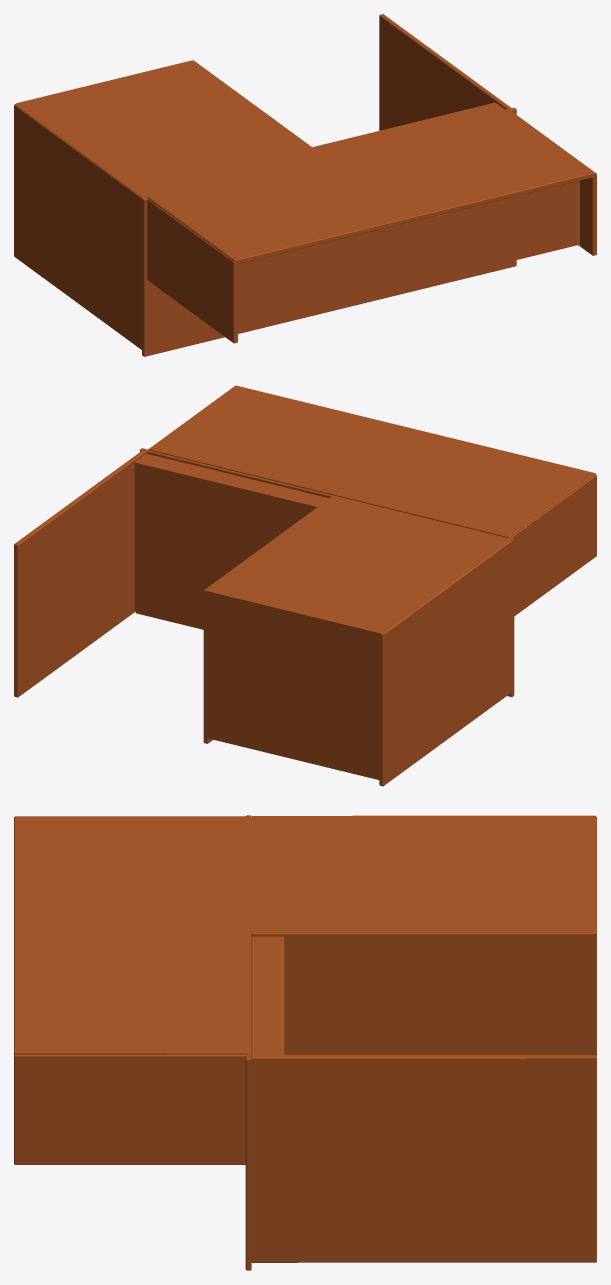
The model's file is DeskmeshDesk_304_0.obj.
The picture shows the model from 3 angles, top to bottom: view 1: azimuth 30°, elevation 25°; view 2: azimuth 150°, elevation 25°; view 3: azimuth 270°, elevation 25°; orthographic projection. The views are drawn at different scales.
Visible parts, largest first — view 1: Desk_304; view 2: Desk_304; view 3: Desk_304.
Part boxes in pixels (x1=…): Desk_304: x1=14, y1=14, x2=596, y2=356; Desk_304: x1=14, y1=385, x2=596, y2=786; Desk_304: x1=14, y1=815, x2=596, y2=1270.
Size of the model in its own units: 1.62 by 0.6592 by 1.63.
